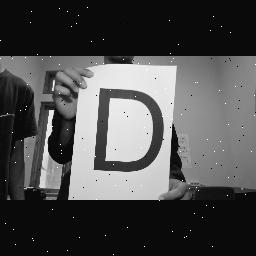d: (88, 82, 168, 178)
